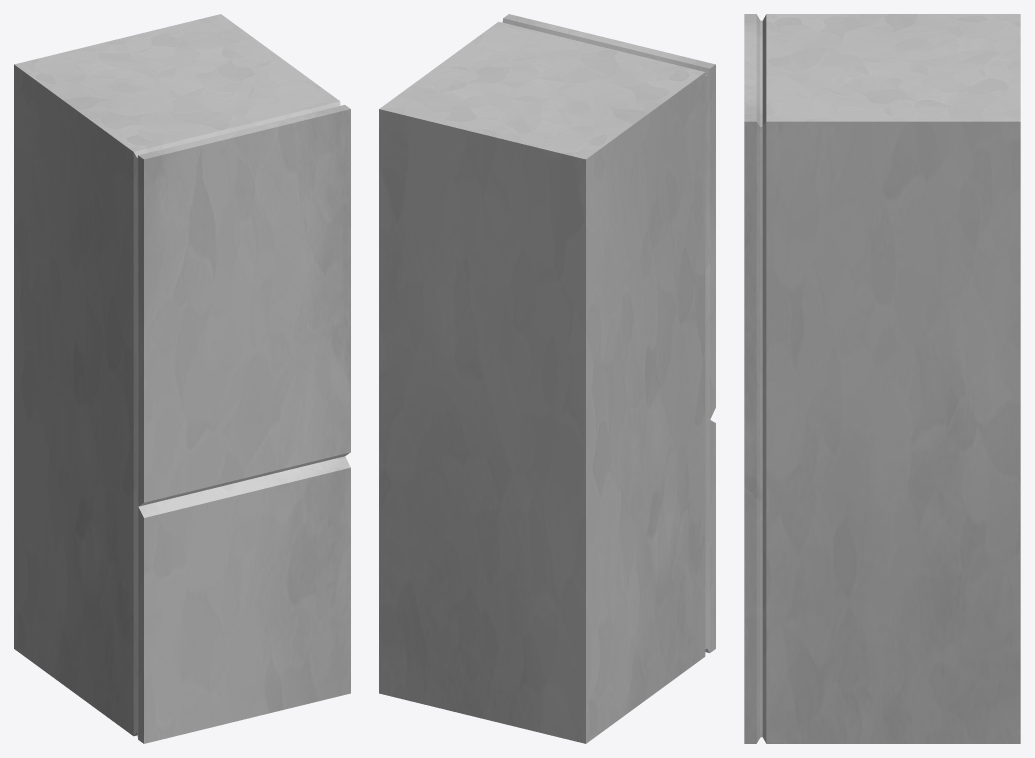
File: Fridge.fbx
3 renders of one model, left to right at view 1: azimuth 30°, elevation 25°; view 2: azimuth 150°, elevation 25°; view 3: azimuth 270°, elevation 25°, orthographic. The views are drawn at different scales.
Visible parts, largest first — view 1: Cube; view 2: Cube; view 3: Cube.
Part boxes in pixels (box(x1,y1,x2,y2)): Cube: box(14, 14, 350, 743); Cube: box(379, 14, 715, 743); Cube: box(744, 14, 1020, 743).
Size of the model in its own units: 95.2 by 257 by 104.
Materials: 1 (1 with a texture image).
